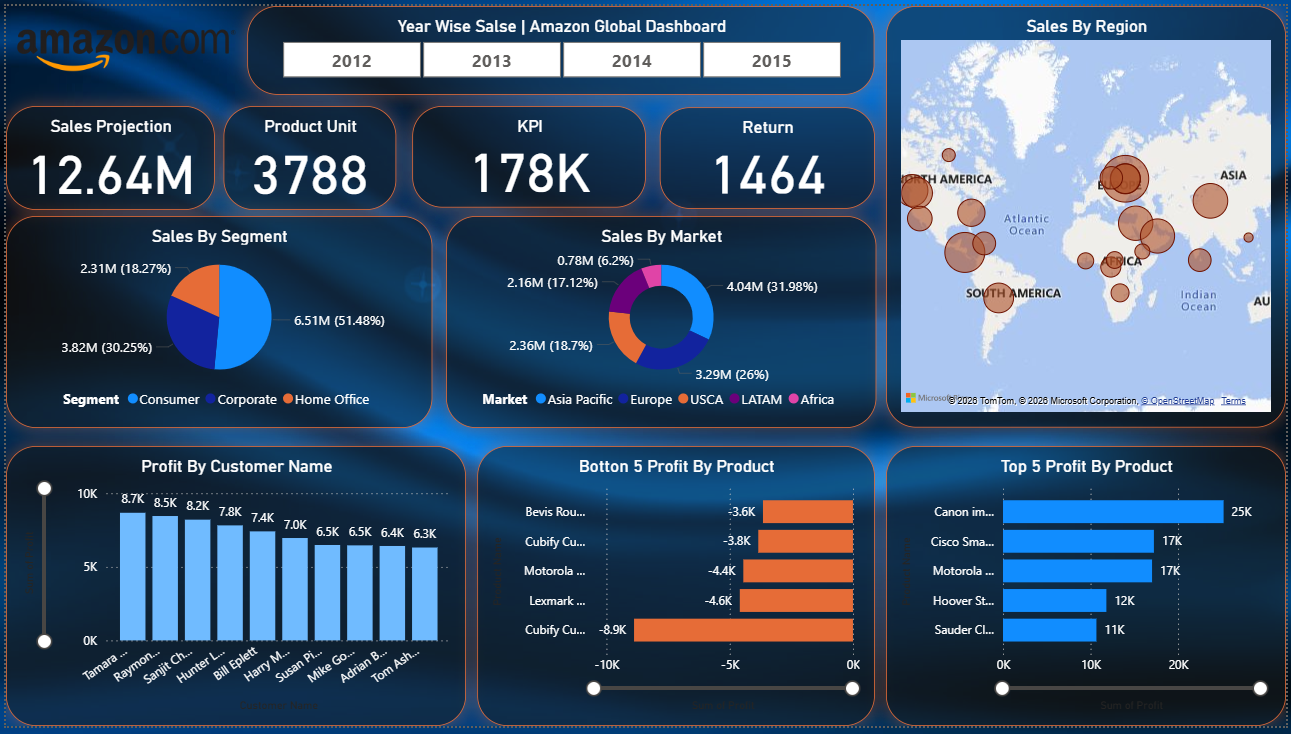

The page's visual inventory and layout, read from the dashboard file:
{"tool":"powerbi","page":{"name":"Page 1","canvas":[1280,720],"ordinal":0},"visuals":[{"type":"slicer","title":"Year Wise Salse | Amazon Global Dashboard","fields":{"Values":["Orders.Year"]},"box":[241.2,0,627.5,88.8],"z":0},{"type":"card","title":"Sales Projection","fields":{"Values":["Sum(Orders.Sales)"]},"box":[0,100,208.8,103.8],"z":1000},{"type":"image","box":[0,0,241.2,88.8],"z":2000},{"type":"card","title":"Product Unit","fields":{"Values":["Count(Orders.Product ID)"]},"box":[217.5,100,172.5,103.8],"z":3000},{"type":"card","title":"KPI","fields":{"Values":["Sum(Orders.Quantity)"]},"box":[406.2,100,233.8,101.2],"z":4000},{"type":"card","title":"Return","fields":{"Values":["Count(Orders.Ship Date)"]},"box":[653.8,101.2,215,101.2],"z":5000},{"type":"pieChart","title":"Sales By Segment","fields":{"Category":["Orders.Segment"],"Y":["Sum(Orders.Sales)"]},"box":[0,210,426,212],"z":6000},{"type":"donutChart","title":"Sales By Market","fields":{"Y":["Sum(Orders.Sales)"],"Category":["Orders.Market"]},"box":[440,210,430,212],"z":7000},{"type":"columnChart","title":"Profit By Customer Name","fields":{"Y":["Sum(Orders.Profit)"],"Category":["Orders.Customer Name"]},"box":[0,440,460,280],"z":8000},{"type":"clusteredBarChart","title":"Botton 5 Profit By Product","fields":{"Y":["Sum(Orders.Profit)"],"Category":["Orders.Product Name"]},"box":[471.2,440,397.5,280],"z":9000},{"type":"clusteredBarChart","title":"Top 5 Profit By Product","fields":{"Y":["Sum(Orders.Profit)"],"Category":["Orders.Product Name"]},"box":[880,440,400,280],"z":10000},{"type":"map","title":"Sales By Region","fields":{"Category":["Orders.Region"],"Size":["Sum(Orders.Sales)"]},"box":[880,0,400,421.4],"z":10001}]}

Visuals, with their boxes in screenshot pixels (x1, y1, x2, y2), scaled from the page's 1280x720 canvas onto the 1291x734 screenshot:
"Year Wise Salse | Amazon Global Dashboard" slicer: <bbox>243, 0, 876, 91</bbox>
"Sales Projection" card: <bbox>0, 102, 211, 208</bbox>
image: <bbox>0, 0, 243, 91</bbox>
"Product Unit" card: <bbox>219, 102, 393, 208</bbox>
"KPI" card: <bbox>410, 102, 646, 205</bbox>
"Return" card: <bbox>659, 103, 876, 206</bbox>
"Sales By Segment" pieChart: <bbox>0, 214, 430, 430</bbox>
"Sales By Market" donutChart: <bbox>444, 214, 877, 430</bbox>
"Profit By Customer Name" columnChart: <bbox>0, 449, 464, 733</bbox>
"Botton 5 Profit By Product" clusteredBarChart: <bbox>475, 449, 876, 733</bbox>
"Top 5 Profit By Product" clusteredBarChart: <bbox>888, 449, 1290, 733</bbox>
"Sales By Region" map: <bbox>888, 0, 1290, 430</bbox>
